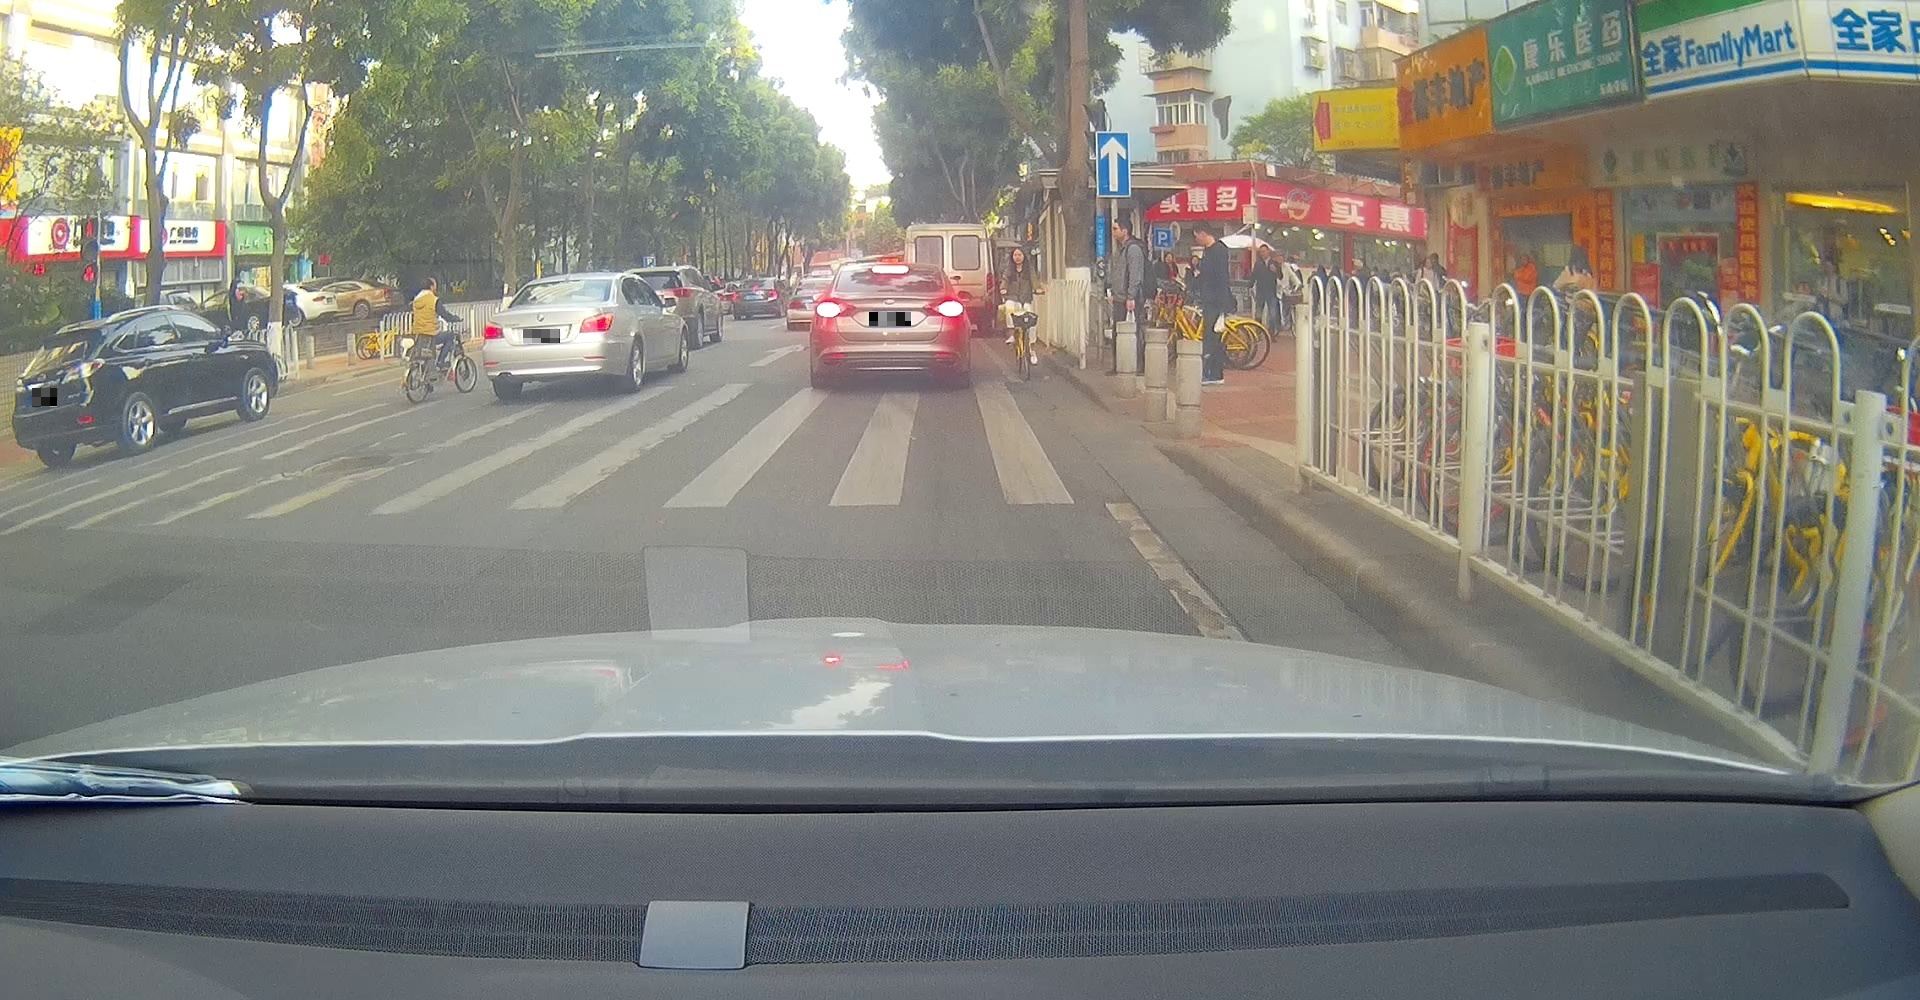L_light: (817, 299, 856, 319), (483, 320, 505, 340), (14, 377, 27, 395), (731, 292, 739, 302)
R_light: (60, 359, 105, 385), (922, 298, 964, 317), (579, 312, 615, 334), (767, 291, 778, 299)
T_light: (872, 266, 909, 274), (557, 280, 578, 284), (58, 335, 72, 339), (752, 287, 758, 289)
day-brake: (810, 261, 969, 391)
day-no: (481, 273, 622, 400), (10, 316, 116, 467), (731, 277, 780, 320)
plate_1: (32, 388, 57, 407)
plate_2: (523, 329, 560, 343)
plate_3: (869, 312, 910, 326)
